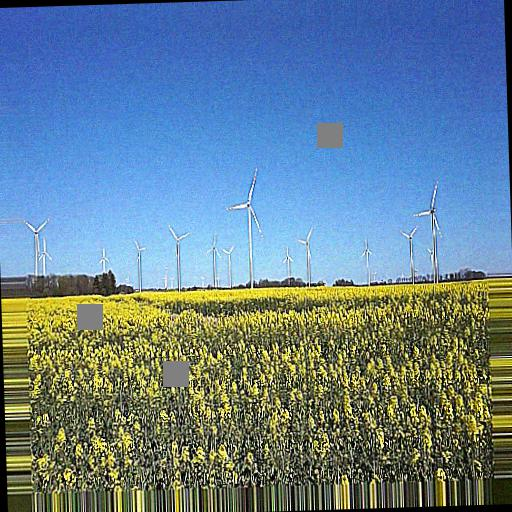wind turbine: (223, 169, 268, 288), (413, 182, 449, 279), (20, 218, 54, 289), (165, 223, 192, 290), (296, 224, 320, 284), (398, 223, 423, 278), (203, 231, 226, 284), (359, 237, 381, 283), (133, 240, 149, 289), (280, 244, 296, 283)
